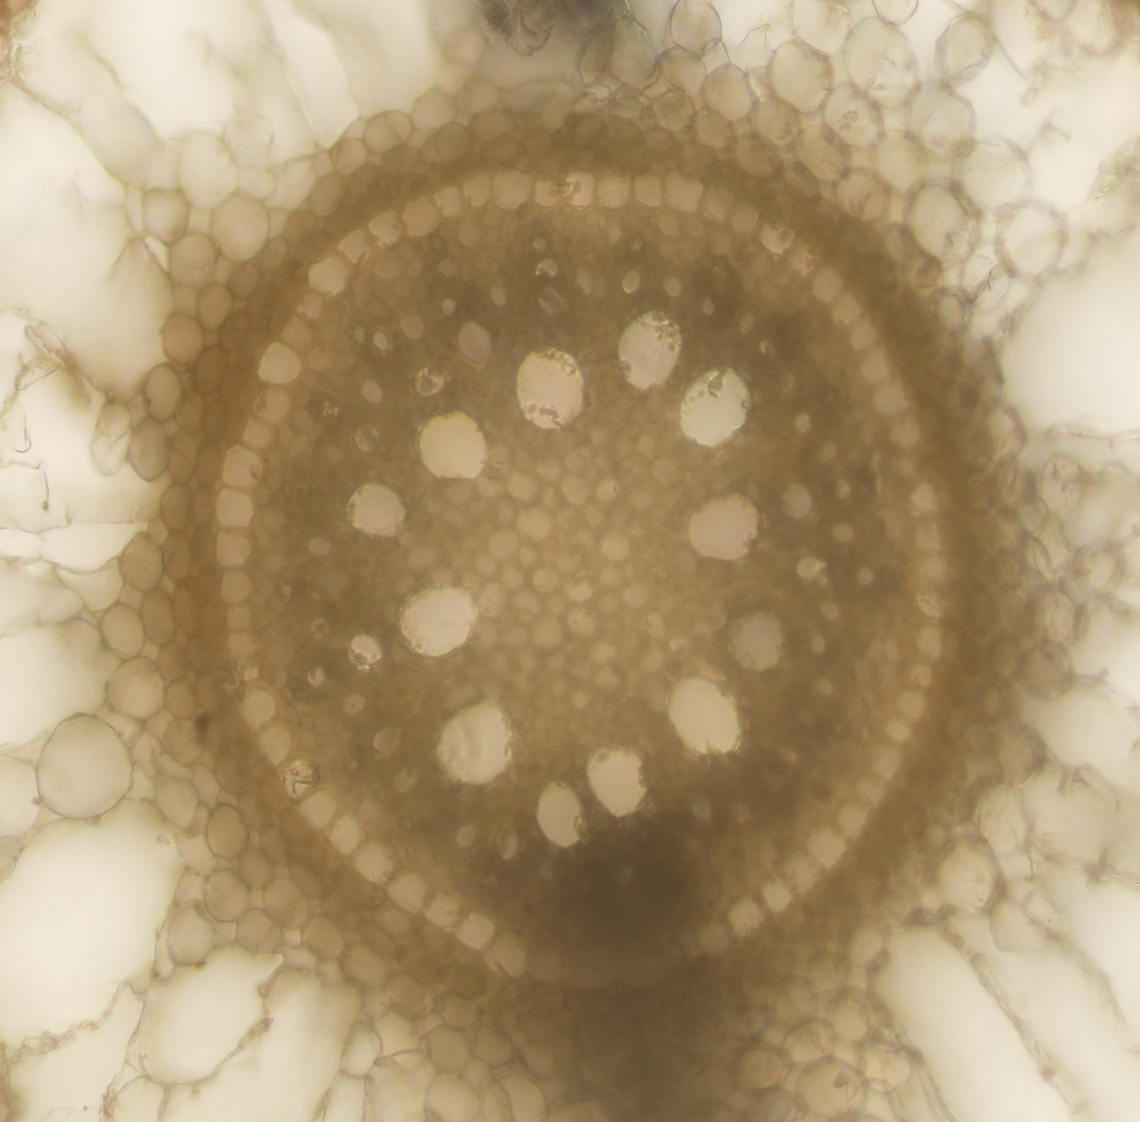lm: (680, 362, 752, 448), (436, 698, 508, 783), (401, 578, 477, 657), (669, 675, 742, 756), (514, 347, 584, 428), (618, 310, 683, 390), (688, 492, 761, 560), (418, 409, 487, 480), (586, 745, 646, 818), (346, 477, 407, 539), (731, 607, 786, 671), (534, 781, 583, 847)
